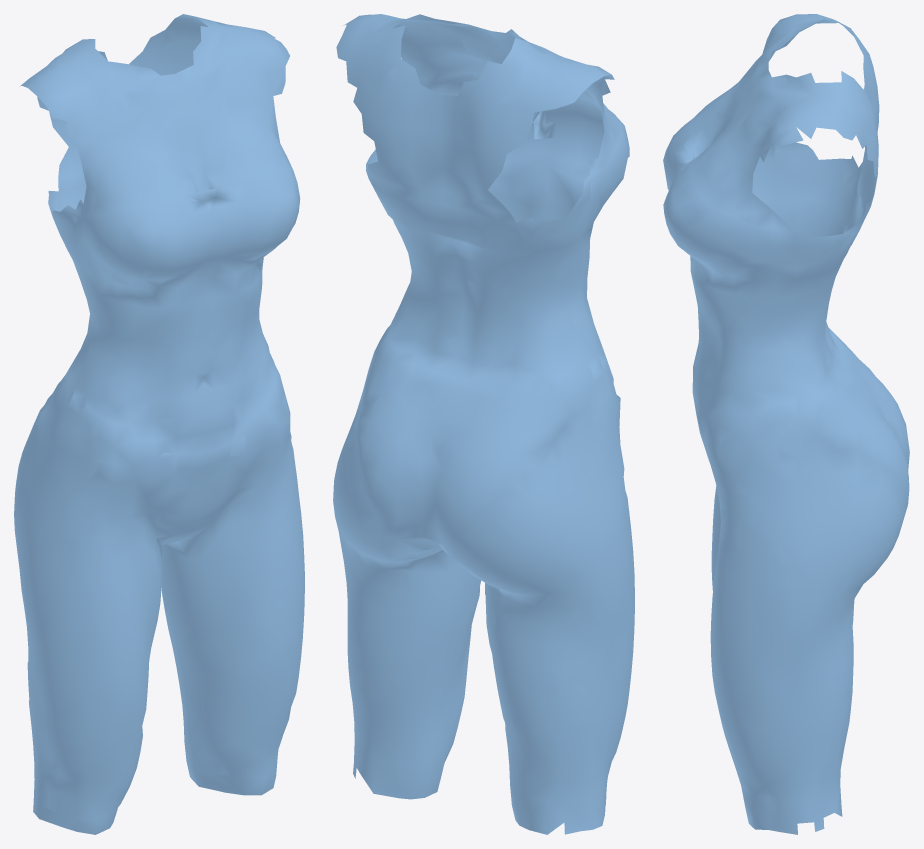
Rendered from _fixture_bodysuit_raw.glb.
3 renders of one model, left to right at view 1: azimuth 30°, elevation 25°; view 2: azimuth 150°, elevation 25°; view 3: azimuth 270°, elevation 25°, orthographic. The views are drawn at different scales.
Visible parts, largest first — view 1: _fixture_bodysuit_raw; view 2: _fixture_bodysuit_raw; view 3: _fixture_bodysuit_raw.
Part boxes in pixels (<box>): _fixture_bodysuit_raw: <box>14,14,304,834</box>; _fixture_bodysuit_raw: <box>333,14,634,834</box>; _fixture_bodysuit_raw: <box>663,14,909,834</box>.
Size of the model in its own units: 0.1998 by 0.5534 by 0.1666.
